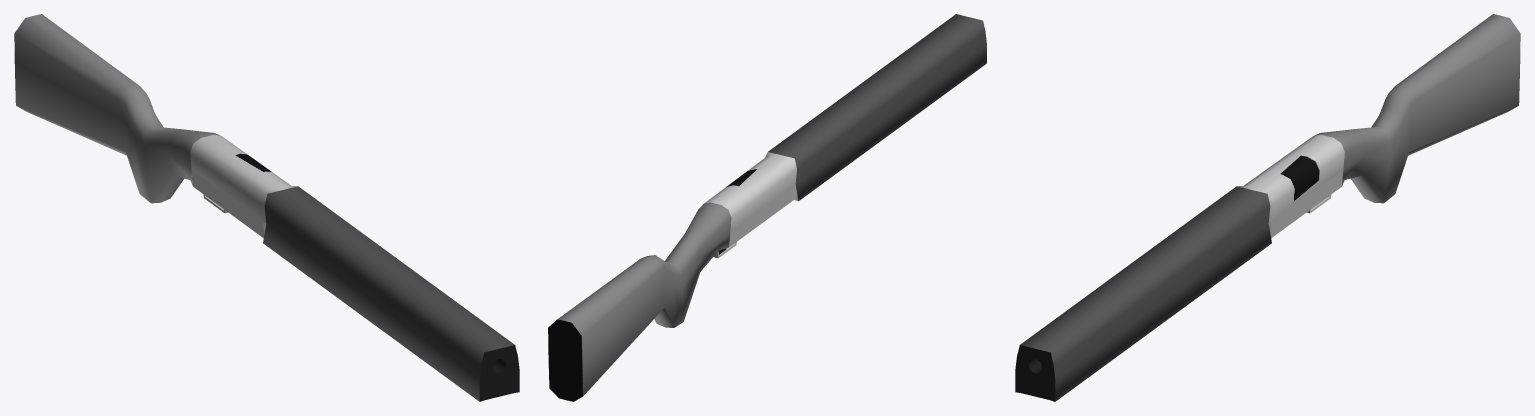
The model's file is Escopeta.fbx.
The picture shows the model from 3 angles, left to right: view 1: azimuth 30°, elevation 25°; view 2: azimuth 150°, elevation 25°; view 3: azimuth 330°, elevation 25°; orthographic projection. The views are drawn at different scales.
Visible parts, largest first — view 1: Cube; view 2: Cube; view 3: Cube.
Boxes of the visible parts, bbox=[...] form: Cube: bbox=[14, 14, 519, 401]; Cube: bbox=[548, 14, 986, 401]; Cube: bbox=[1015, 14, 1520, 401].
Bounding box in the file's own units: 78.37 × 192 × 1588.
